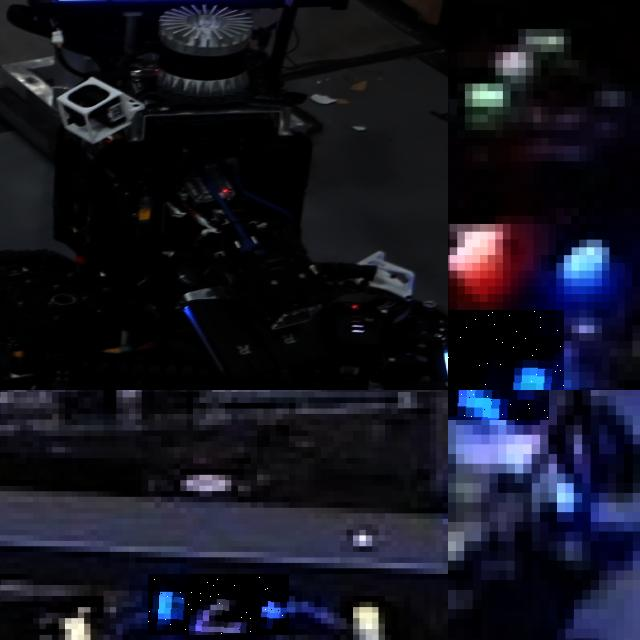B1: (527, 390, 620, 521), (448, 309, 564, 390), (448, 390, 548, 420)
B2: (148, 574, 289, 635)
